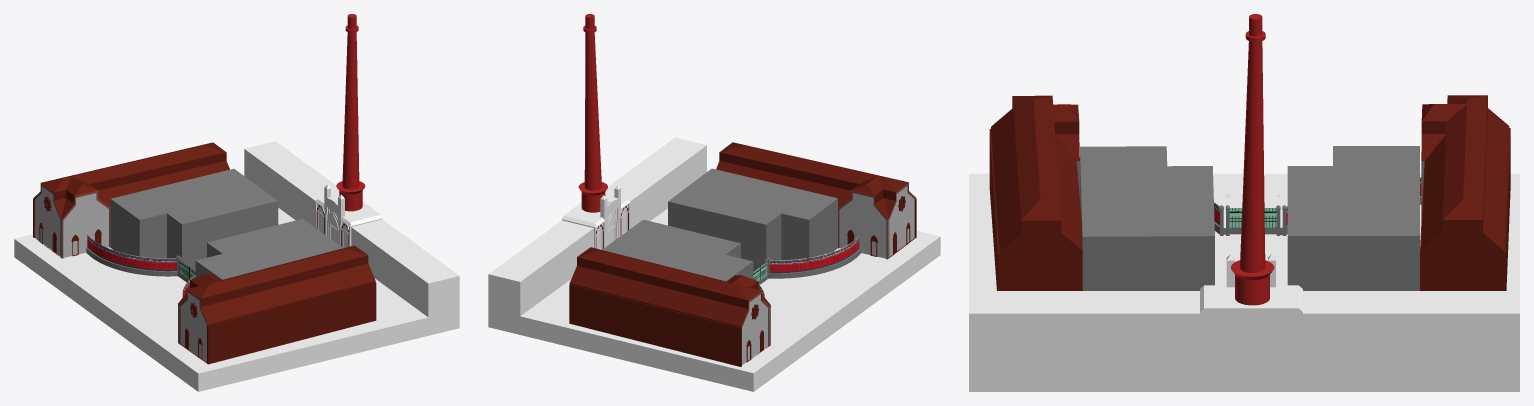
The model's file is fabbrica.gltf.
3 views of the same model, side by side, from view 1: azimuth 30°, elevation 25°; view 2: azimuth 150°, elevation 25°; view 3: azimuth 270°, elevation 25° (orthographic). The views are drawn at different scales.
Bounding box in the file's own units: 50.72 × 45.43 × 61.88.
Materials: 15 (4 with a texture image).
